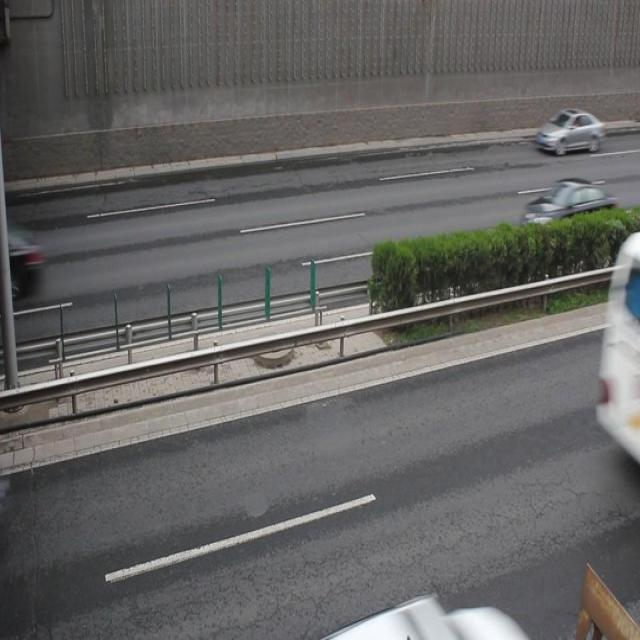car: (336, 589, 524, 640), (520, 174, 618, 254), (534, 105, 602, 155)
